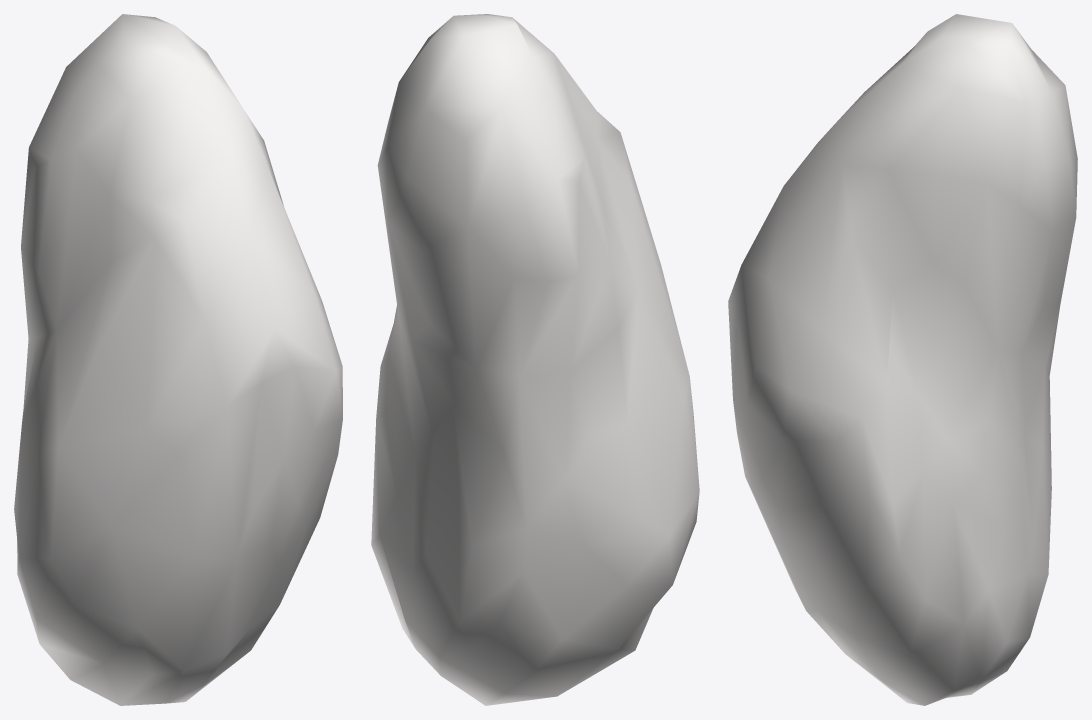
File: Snow_003.fbx
3 views of the same model, side by side, from view 1: azimuth 30°, elevation 25°; view 2: azimuth 150°, elevation 25°; view 3: azimuth 270°, elevation 25° (orthographic). The views are drawn at different scales.
Parts seen in each view (by area): view 1: Snow_003; view 2: Snow_003; view 3: Snow_003.
Boxes of the visible parts, x1=… form: Snow_003: x1=14, y1=14, x2=342, y2=705; Snow_003: x1=371, y1=14, x2=699, y2=705; Snow_003: x1=728, y1=14, x2=1077, y2=705.
Size of the model in its own units: 0.9646 by 2.09 by 0.9827.
